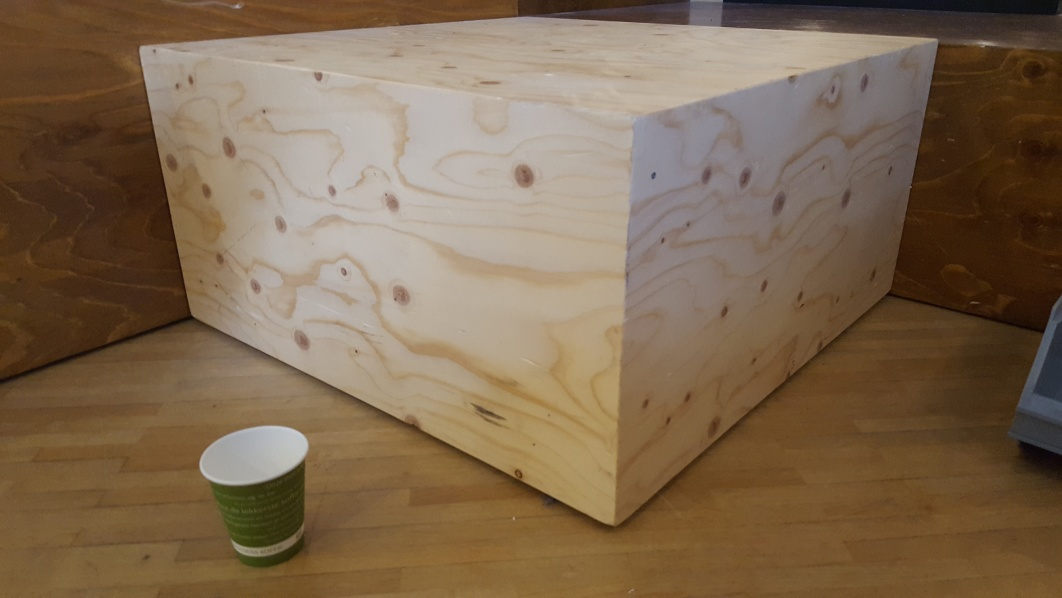cup: (197, 425, 320, 568)
